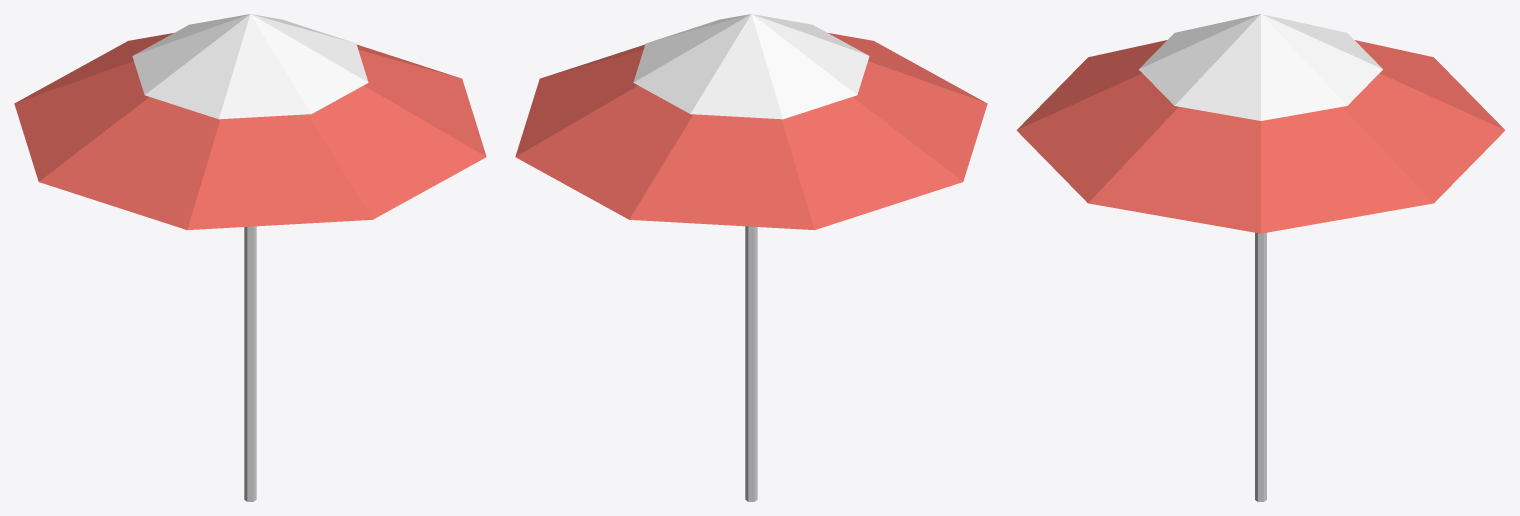
Rendered from BeachUmbrella.fbx.
3 renders of one model, left to right at view 1: azimuth 30°, elevation 25°; view 2: azimuth 150°, elevation 25°; view 3: azimuth 270°, elevation 25°, orthographic.
Parts seen in each view (by area): view 1: Body; view 2: Body; view 3: Body.
Boxes of the visible parts, x1,y1,x2,y2 form: Body: (14,14,486,501); Body: (515,14,987,501); Body: (1016,14,1505,501).
Bounding box in the file's own units: 2.4 × 2.63 × 2.4.
